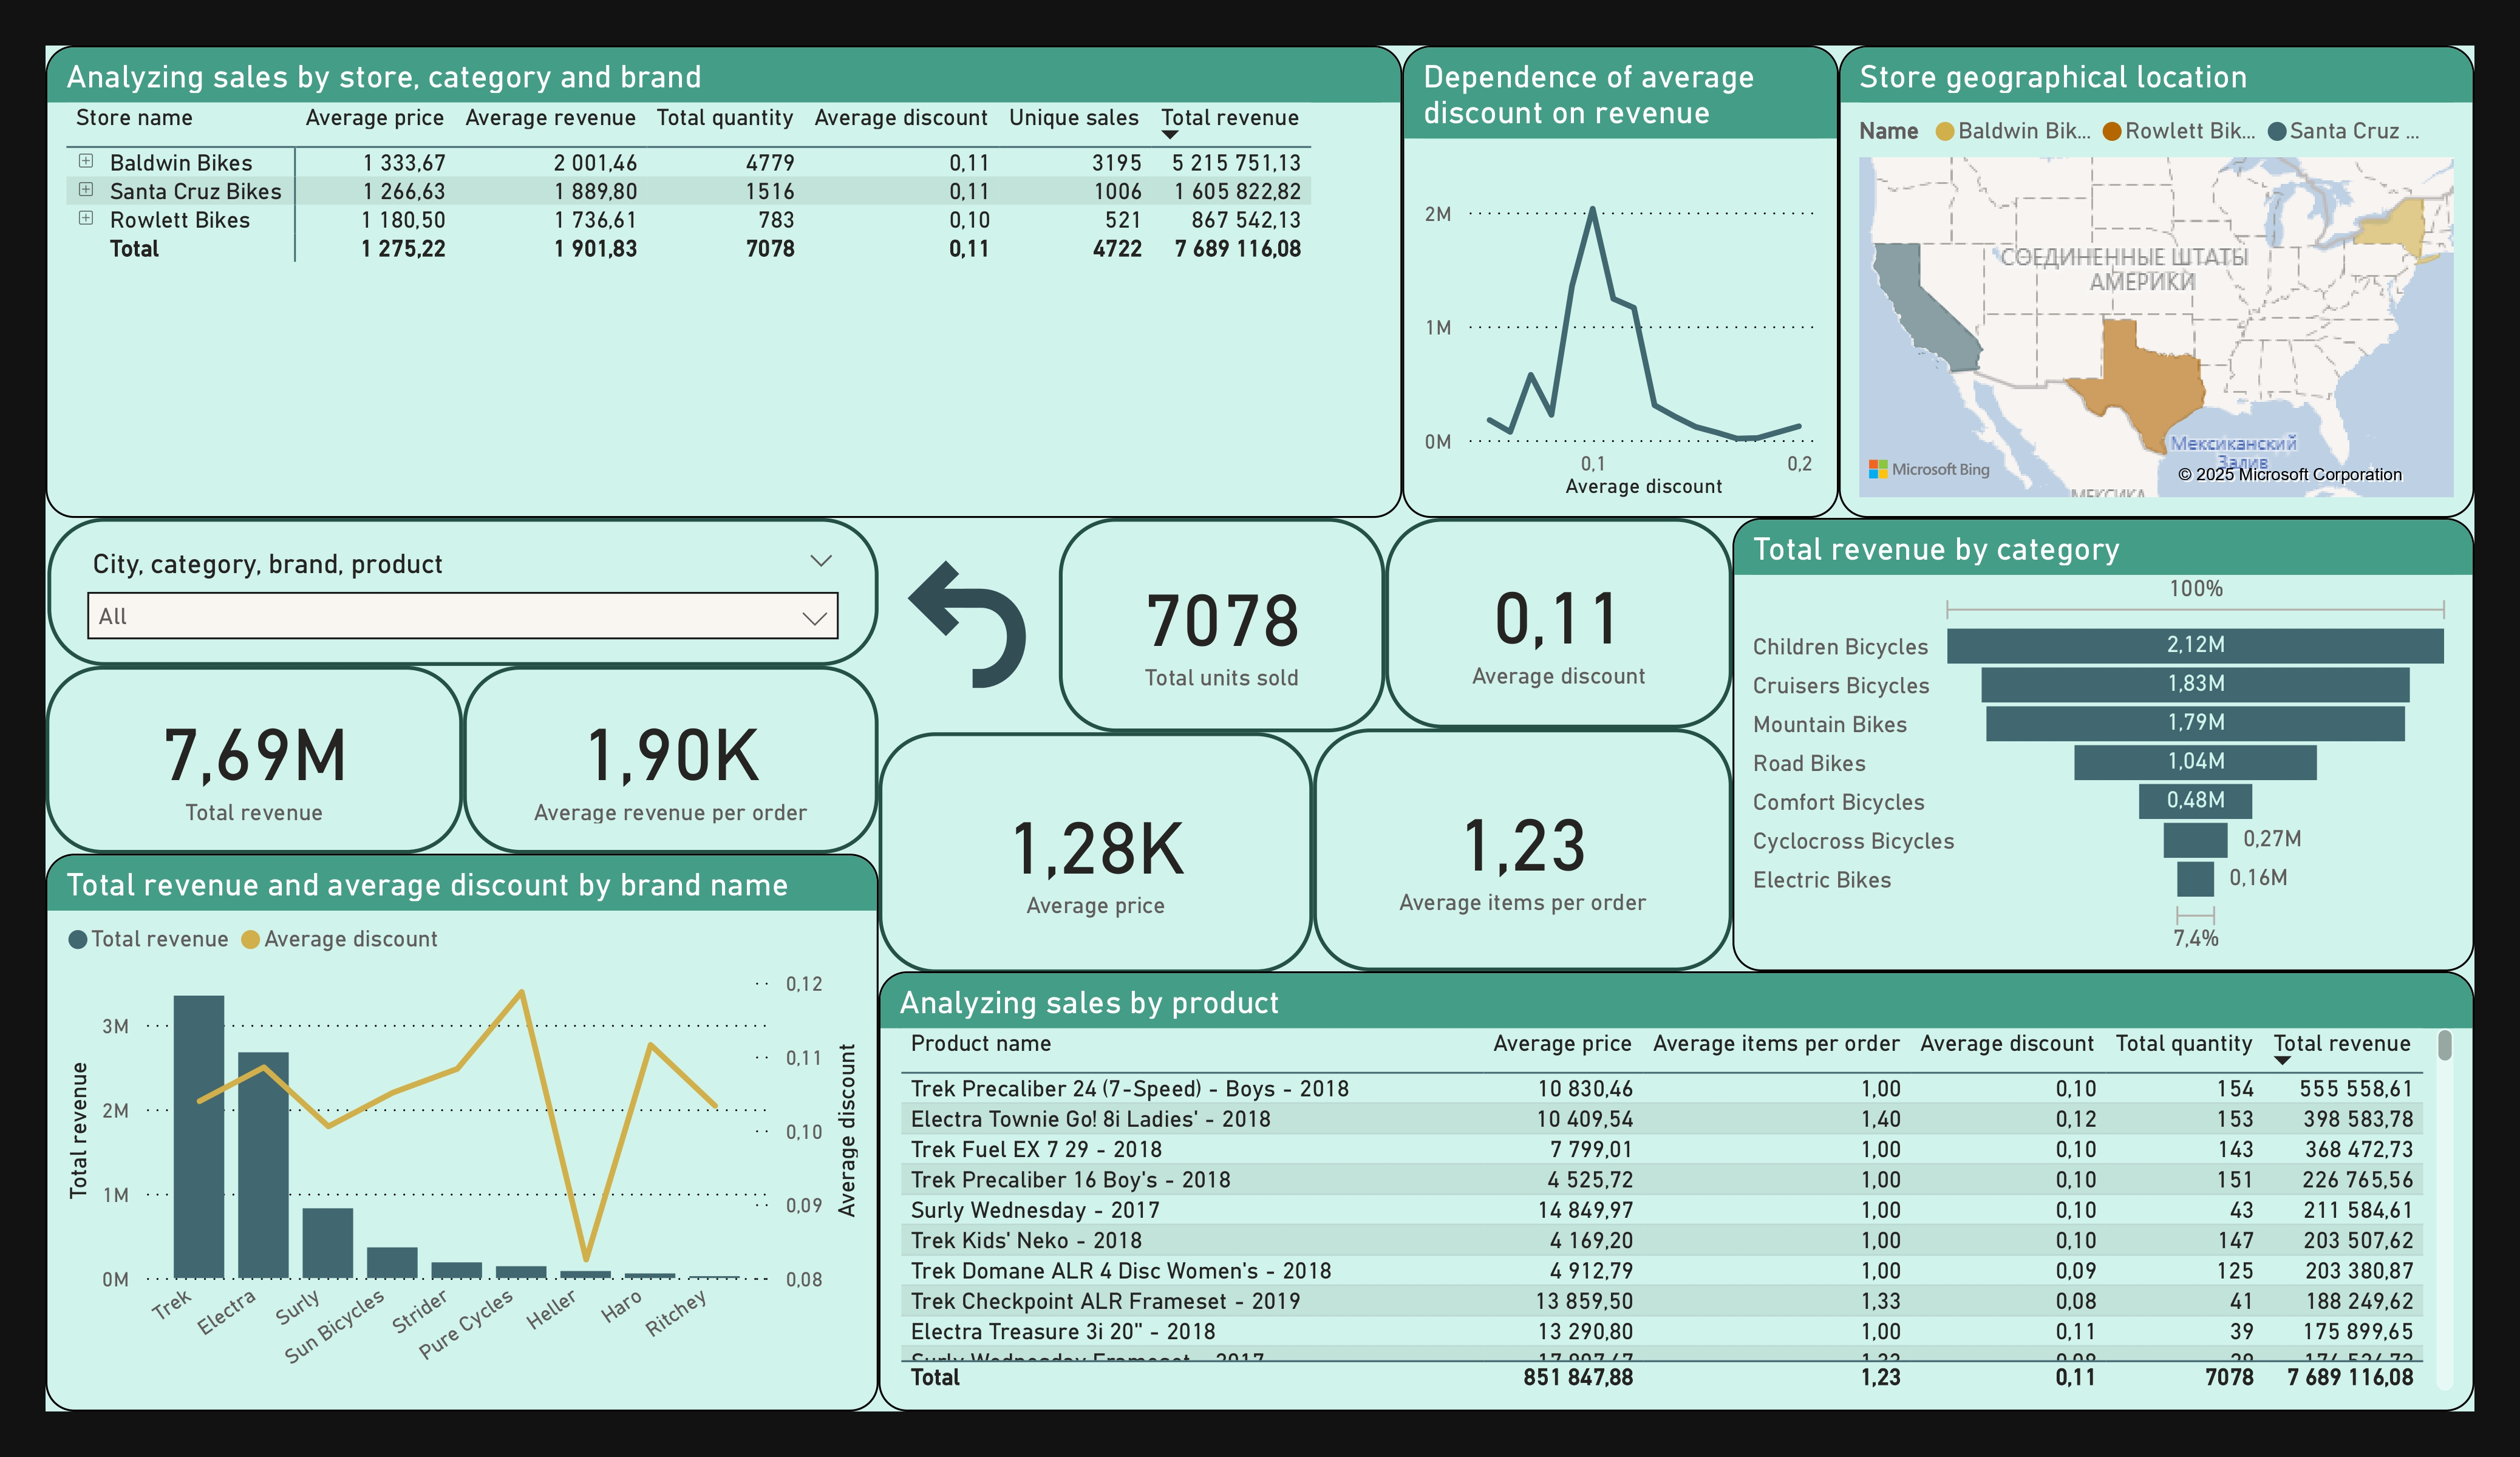

The dashboard page shown, as its layout file describes it:
{"tool":"powerbi","page":{"name":"store_product_analysis","canvas":[1280,720],"ordinal":3},"visuals":[{"type":"filledMap","title":"Store geographical location","fields":{"Category":["gold_layer store_product_analysis.store_state"],"Series":["gold_layer store_product_analysis.store_name"]},"box":[945.5,0,334.5,249.3],"z":0},{"type":"card","fields":{"Values":["Sum(gold_layer store_product_analysis.total_quantity)"]},"box":[534.5,249.3,171.6,112.3],"z":1000},{"type":"card","fields":{"Values":["Avg(gold_layer store_product_analysis.avg_items_per_order)"]},"box":[667.8,360.4,220.9,127.1],"z":2000},{"type":"card","fields":{"Values":["Avg(gold_layer store_product_analysis.avg_price)"]},"box":[439.4,361.7,228.4,127.1],"z":3000},{"type":"card","fields":{"Values":["Avg(gold_layer store_product_analysis.avg_discount)"]},"box":[706,249.3,182.7,111.1],"z":4000},{"type":"card","fields":{"Values":["Avg(gold_layer store_product_analysis.avg_revenue_per_order)"]},"box":[219.7,327.1,219.7,98.7],"z":6000},{"type":"slicer","fields":{"Values":["gold_layer store_product_analysis.store_city","gold_layer store_product_analysis.category_name","gold_layer store_product_analysis.brand_name","gold_layer store_product_analysis.product_name"]},"box":[1.2,249.3,438.2,77.8],"z":7000},{"type":"card","fields":{"Values":["Sum(gold_layer store_product_analysis.total_revenue)"]},"box":[0,327.1,219.7,98.7],"z":8000},{"type":"pivotTable","title":"Analyzing sales by store, category and brand","fields":{"Rows":["gold_layer store_product_analysis.store_name","gold_layer store_product_analysis.category_name","gold_layer store_product_analysis.brand_name"],"Values":["Avg(gold_layer store_product_analysis.avg_price)","Avg(gold_layer store_product_analysis.avg_revenue_per_order)","Sum(gold_layer store_product_analysis.total_quantity)","Avg(gold_layer store_product_analysis.avg_discount)","Sum(gold_layer store_product_analysis.discounted_sales)","Sum(gold_layer store_product_analysis.total_revenue)"]},"box":[0,0,714.7,249.3],"z":9000},{"type":"lineClusteredColumnComboChart","title":"Total revenue and average discount by brand name","fields":{"Category":["gold_layer store_product_analysis.brand_name"],"Y":["Sum(gold_layer store_product_analysis.total_revenue)"],"Y2":["Avg(gold_layer store_product_analysis.avg_discount)"]},"box":[0,425.8,439.4,293.8],"z":10000},{"type":"lineChart","title":"Dependence of average discount on revenue","fields":{"Category":["gold_layer store_product_analysis.avg_discount"],"Y":["Sum(gold_layer store_product_analysis.total_revenue)"]},"box":[714.7,0,230.8,249.3],"z":11000},{"type":"tableEx","title":"Analyzing sales by product","fields":{"Values":["gold_layer store_product_analysis.product_name","Sum(gold_layer store_product_analysis.avg_price)","Avg(gold_layer store_product_analysis.avg_items_per_order)","Avg(gold_layer store_product_analysis.avg_discount)","Sum(gold_layer store_product_analysis.total_quantity)","Sum(gold_layer store_product_analysis.total_revenue)"]},"box":[439.4,487.6,840.6,232.1],"z":12000},{"type":"funnel","title":"Total revenue by category","fields":{"Category":["gold_layer store_product_analysis.category_name"],"Y":["Sum(gold_layer store_product_analysis.total_revenue)"]},"box":[888.7,249.3,391.3,238.2],"z":13000},{"type":"actionButton","box":[439.4,249.3,95,111.1],"z":14000}]}

Visuals, with their boxes in screenshot pixels (x1, y1, x2, y2):
"Store geographical location" filledMap: 1840 46 2474 518
card - Sum(gold_layer store_product_analysis.total_quantity): 1060 518 1386 732
card - Avg(gold_layer store_product_analysis.avg_items_per_order): 1313 729 1732 970
card - Avg(gold_layer store_product_analysis.avg_price): 879 732 1313 973
card - Avg(gold_layer store_product_analysis.avg_discount): 1385 518 1732 729
card - Avg(gold_layer store_product_analysis.avg_revenue_per_order): 463 666 879 854
slicer - gold_layer store_product_analysis.store_city x gold_layer store_product_analysis.category_name: 48 518 879 666
card - Sum(gold_layer store_product_analysis.total_revenue): 46 666 463 854
"Analyzing sales by store, category and brand" pivotTable: 46 46 1401 518
"Total revenue and average discount by brand name" lineClusteredColumnComboChart: 46 854 879 1411
"Dependence of average discount on revenue" lineChart: 1401 46 1840 518
"Analyzing sales by product" tableEx: 879 971 2474 1411
"Total revenue by category" funnel: 1732 518 2474 970
actionButton: 879 518 1060 729
